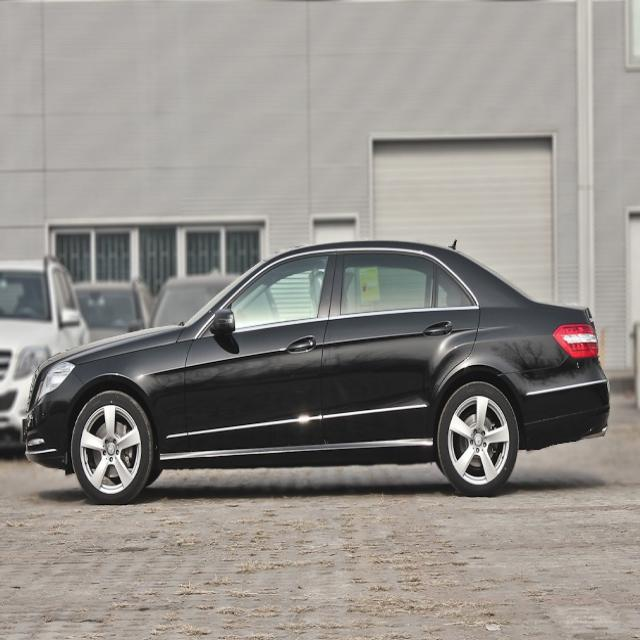back_left_side_light: (550, 321, 600, 360)
door: (324, 249, 485, 444)
front_bumper: (24, 371, 82, 469)
front_left_side_door: (183, 248, 338, 454)
front_left_side_light: (36, 355, 75, 405)
front_left_side_mirror: (210, 307, 238, 338)
rear_bumper: (493, 357, 611, 448)
wheel: (438, 381, 518, 497), (72, 391, 151, 506)
